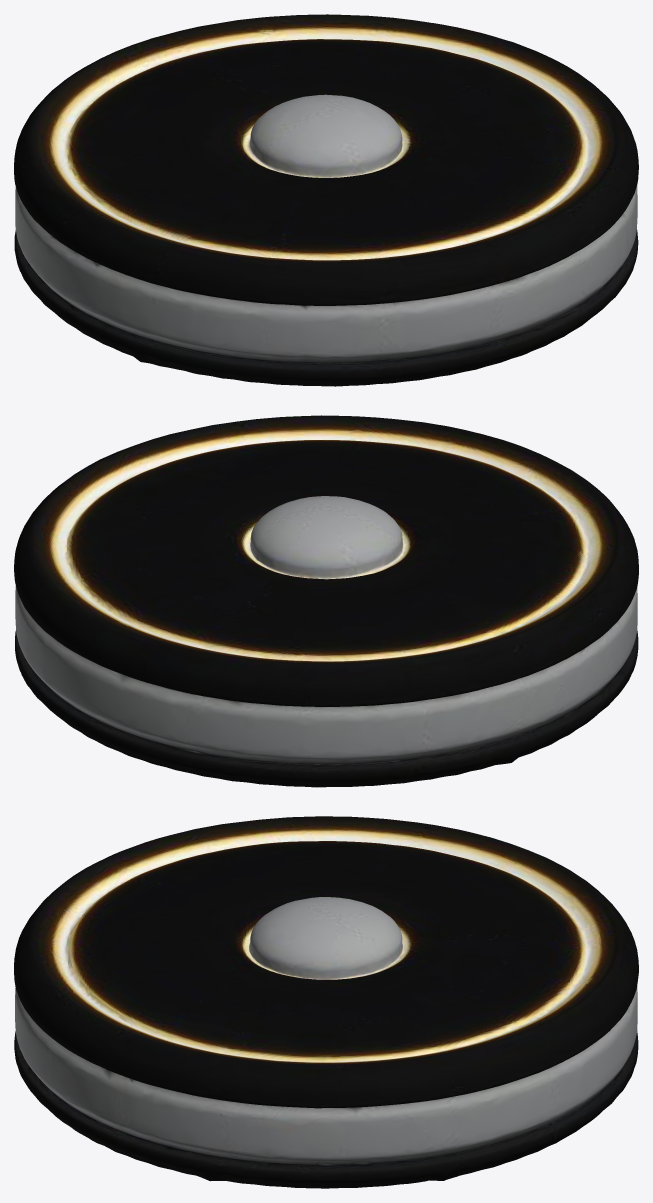
File: puck.glb
3 renders of one model, top to bottom at view 1: azimuth 30°, elevation 25°; view 2: azimuth 150°, elevation 25°; view 3: azimuth 270°, elevation 25°, orthographic.
Visible parts, largest first — view 1: tripo_node_60353bdf-5659-486d-b687-5102a217133e; view 2: tripo_node_60353bdf-5659-486d-b687-5102a217133e; view 3: tripo_node_60353bdf-5659-486d-b687-5102a217133e.
Part boxes in pixels (<box>): tripo_node_60353bdf-5659-486d-b687-5102a217133e: <box>14,14,638,386</box>; tripo_node_60353bdf-5659-486d-b687-5102a217133e: <box>14,415,638,787</box>; tripo_node_60353bdf-5659-486d-b687-5102a217133e: <box>14,816,638,1188</box>.
Size of the model in its own units: 1 by 0.2738 by 0.9997.
Materials: 1 (1 with a texture image).
